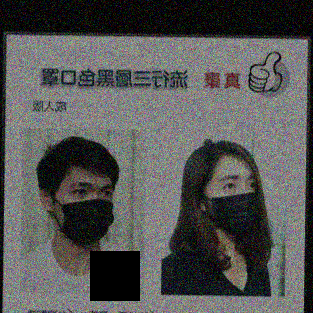with_mask: (52, 177, 113, 245), (203, 172, 259, 237)
